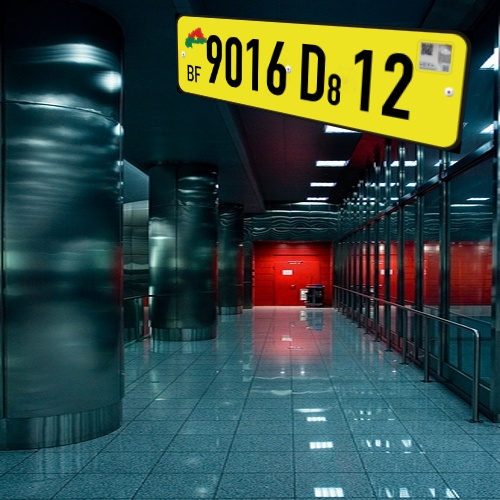plate: (170, 7, 475, 157)
